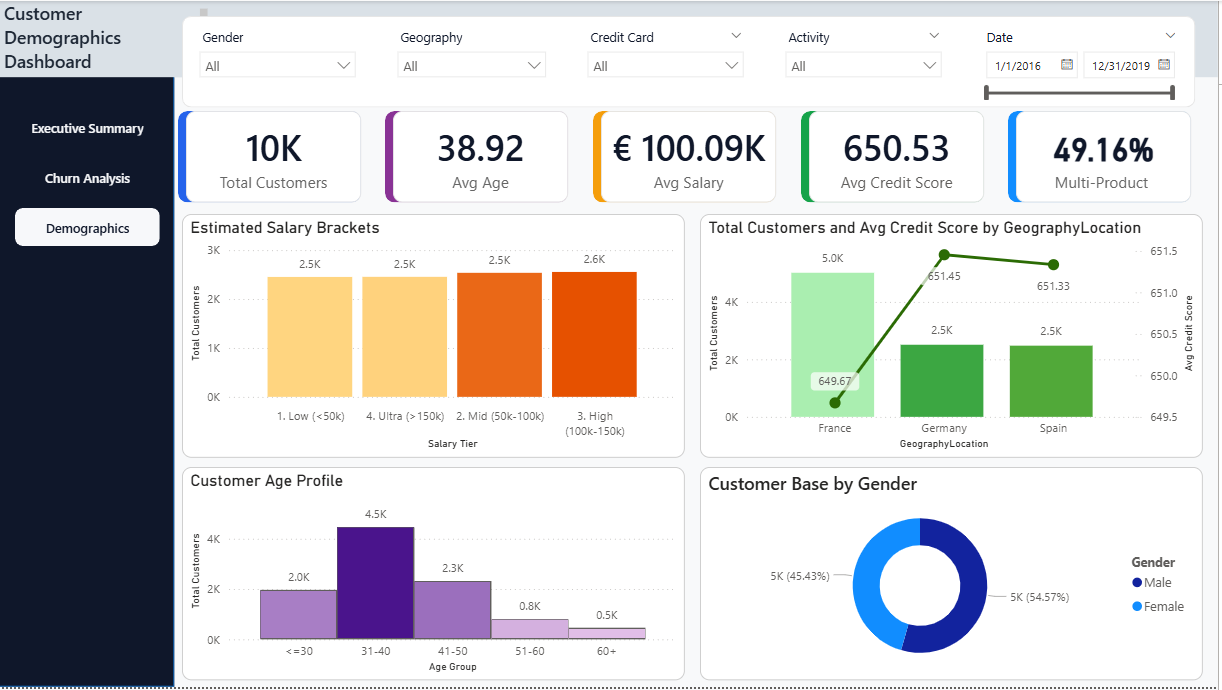

This screenshot's page, from the dashboard's own definition file:
{"tool":"powerbi","page":{"name":"Demographics","canvas":[1280,720],"ordinal":2},"visuals":[{"type":"shape","box":[0,0,184,720],"z":0},{"type":"shape","box":[623.7,115.8,192,96],"z":0,"group":"g3"},{"type":"shape","box":[841.7,115.8,192,96],"z":0,"group":"g5"},{"type":"shape","box":[184,0,1096,80],"z":1000},{"type":"shape","box":[1059.7,115.8,192,96],"z":1000,"group":"g4"},{"type":"textbox","box":[0,0,224,80],"z":2000},{"type":"shape","box":[192,16,1064,96],"z":2000,"group":"g1"},{"type":"shape","box":[187.7,115.8,192,96],"z":2000,"group":"g2"},{"type":"shape","box":[405.7,115.8,192,96],"z":2000,"group":"g6"},{"type":"actionButton","box":[16.5,111.9,152,40],"z":3000},{"type":"slicer","fields":{"Values":["Geography.GeographyLocation"]},"box":[408,24,176,80],"z":4000,"group":"g1"},{"type":"actionButton","box":[16.5,217.5,152,40],"z":4000},{"type":"actionButton","box":[16.5,164.7,152,40],"z":5000},{"type":"group","id":"g1","title":"Group 6","box":[192,16,1072,96],"z":6000},{"type":"slicer","fields":{"Values":["Gender.GenderCategory"]},"box":[200,24,184,80],"z":6000,"group":"g1"},{"type":"slicer","fields":{"Values":["CreditCard.Category"]},"box":[608,24,184,80],"z":7000,"group":"g1"},{"type":"group","id":"g2","title":"Group 2","box":[187.7,115.8,192,96],"z":7000},{"type":"card","fields":{"Values":["Bank_Churn.Total Customers"]},"box":[195.7,115.8,184,96],"z":8000,"group":"g2"},{"type":"card","fields":{"Values":["Avg(Bank_Churn.Age)"]},"box":[413.7,115.8,184,96],"z":8000,"group":"g6"},{"type":"group","id":"g3","title":"Group 3","box":[623.7,115.8,192,96],"z":8000},{"type":"slicer","fields":{"Values":["ActiveCustomer.ActiveCategory"]},"box":[816,24,184,80],"z":9000,"group":"g1"},{"type":"group","id":"g4","title":"Group 4","box":[1059.7,115.8,192,96],"z":9000},{"type":"slicer","fields":{"Values":["Bank_Churn.Bank DOJ"]},"box":[1024,24,224,80],"z":10000,"group":"g1"},{"type":"group","id":"g5","title":"Group 5","box":[841.7,115.8,192,96],"z":10000},{"type":"group","id":"g6","title":"Group 2","box":[405.7,115.8,192,96],"z":11000},{"type":"card","fields":{"Values":["Bank_Churn.Multi-Product %"]},"box":[1067.7,115.8,184,96],"z":11000,"group":"g4"},{"type":"card","fields":{"Values":["Avg(Bank_Churn.CreditScore)"]},"box":[849.7,115.8,184,96],"z":12000,"group":"g5"},{"type":"donutChart","title":"Customer Base by Gender","fields":{"Category":["Gender.Gender"],"Y":["Bank_Churn.Total Customers"]},"box":[736,489,528,224],"z":12000},{"type":"lineClusteredColumnComboChart","fields":{"Category":["Geography.GeographyLocation"],"Y":["Bank_Churn.Total Customers"],"Y2":["Avg(Bank_Churn.CreditScore)"]},"box":[736,224,528,256],"z":13000},{"type":"card","fields":{"Values":["Avg(Bank_Churn.EstimatedSalary)"]},"box":[631.7,115.8,184,96],"z":14000,"group":"g3"},{"type":"clusteredColumnChart","title":"Customer Age Profile","fields":{"Y":["Bank_Churn.Total Customers"],"Category":["Bank_Churn.Age Group"]},"box":[192,489,528,224],"z":14000},{"type":"clusteredColumnChart","title":"Estimated Salary Brackets","fields":{"Y":["Bank_Churn.Total Customers"],"Category":["Bank_Churn.Salary Tier"]},"box":[192,224,528,256],"z":15000}]}

Visuals, with their boxes on the page's 1280x720 design canvas (x1, y1, x2, y2). These are canvas units, not pixel positions in the 1222x690 screenshot, which may show the page scaled, cropped or inside an application window:
shape: pyautogui.locateOnScreen(0, 0, 184, 720)
shape: pyautogui.locateOnScreen(624, 116, 816, 212)
shape: pyautogui.locateOnScreen(842, 116, 1034, 212)
shape: pyautogui.locateOnScreen(184, 0, 1280, 80)
shape: pyautogui.locateOnScreen(1060, 116, 1252, 212)
textbox: pyautogui.locateOnScreen(0, 0, 224, 80)
shape: pyautogui.locateOnScreen(192, 16, 1256, 112)
shape: pyautogui.locateOnScreen(188, 116, 380, 212)
shape: pyautogui.locateOnScreen(406, 116, 598, 212)
actionButton: pyautogui.locateOnScreen(16, 112, 168, 152)
slicer - Geography.GeographyLocation: pyautogui.locateOnScreen(408, 24, 584, 104)
actionButton: pyautogui.locateOnScreen(16, 218, 168, 258)
actionButton: pyautogui.locateOnScreen(16, 165, 168, 205)
"Group 6" group: pyautogui.locateOnScreen(192, 16, 1264, 112)
slicer - Gender.GenderCategory: pyautogui.locateOnScreen(200, 24, 384, 104)
slicer - CreditCard.Category: pyautogui.locateOnScreen(608, 24, 792, 104)
"Group 2" group: pyautogui.locateOnScreen(188, 116, 380, 212)
card - Bank_Churn.Total Customers: pyautogui.locateOnScreen(196, 116, 380, 212)
card - Avg(Bank_Churn.Age): pyautogui.locateOnScreen(414, 116, 598, 212)
"Group 3" group: pyautogui.locateOnScreen(624, 116, 816, 212)
slicer - ActiveCustomer.ActiveCategory: pyautogui.locateOnScreen(816, 24, 1000, 104)
"Group 4" group: pyautogui.locateOnScreen(1060, 116, 1252, 212)
slicer - Bank_Churn.Bank DOJ: pyautogui.locateOnScreen(1024, 24, 1248, 104)
"Group 5" group: pyautogui.locateOnScreen(842, 116, 1034, 212)
"Group 2" group: pyautogui.locateOnScreen(406, 116, 598, 212)
card - Bank_Churn.Multi-Product %: pyautogui.locateOnScreen(1068, 116, 1252, 212)
card - Avg(Bank_Churn.CreditScore): pyautogui.locateOnScreen(850, 116, 1034, 212)
"Customer Base by Gender" donutChart: pyautogui.locateOnScreen(736, 489, 1264, 713)
lineClusteredColumnComboChart - Geography.GeographyLocation x Bank_Churn.Total Customers: pyautogui.locateOnScreen(736, 224, 1264, 480)
card - Avg(Bank_Churn.EstimatedSalary): pyautogui.locateOnScreen(632, 116, 816, 212)
"Customer Age Profile" clusteredColumnChart: pyautogui.locateOnScreen(192, 489, 720, 713)
"Estimated Salary Brackets" clusteredColumnChart: pyautogui.locateOnScreen(192, 224, 720, 480)
